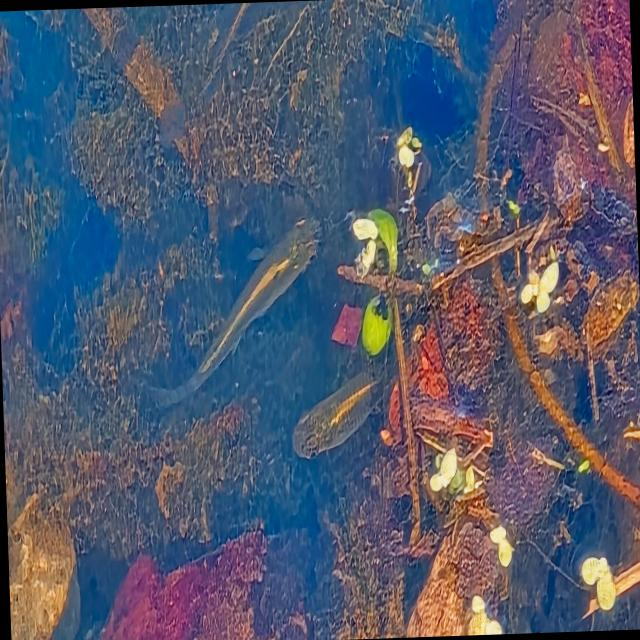Sivrisinek Baligi: (142, 215, 326, 409), (279, 346, 385, 461)
